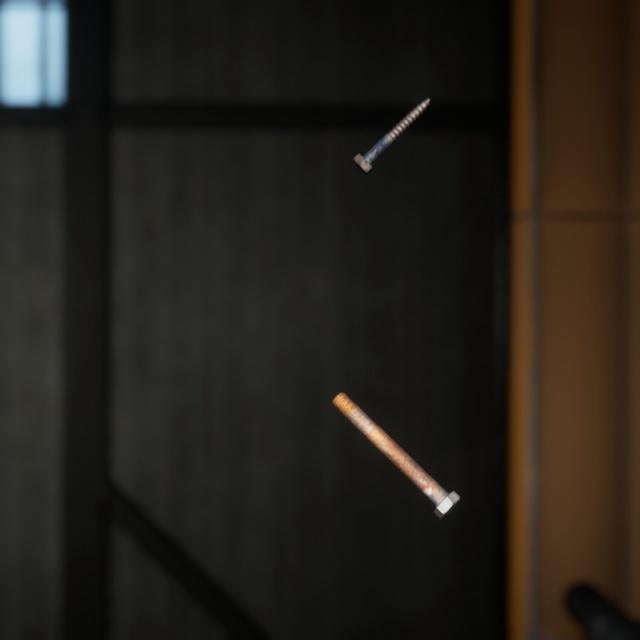bolt: (327, 368, 464, 502), (348, 82, 435, 166)
